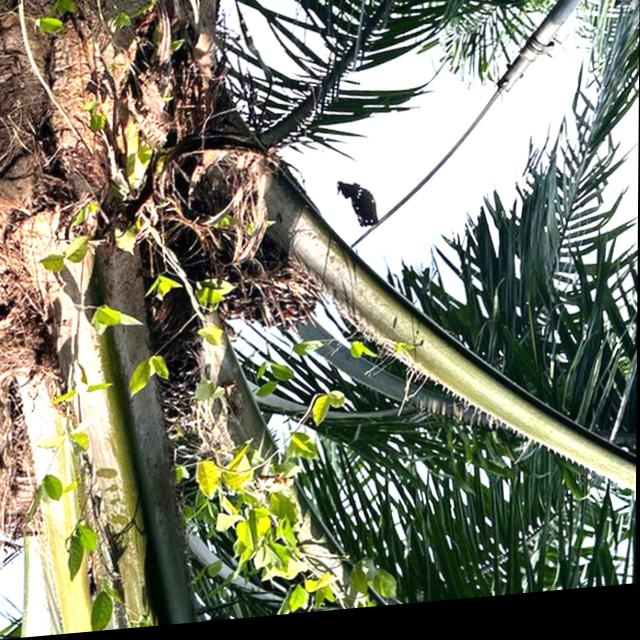almost: (195, 213, 326, 352), (137, 265, 215, 457)
